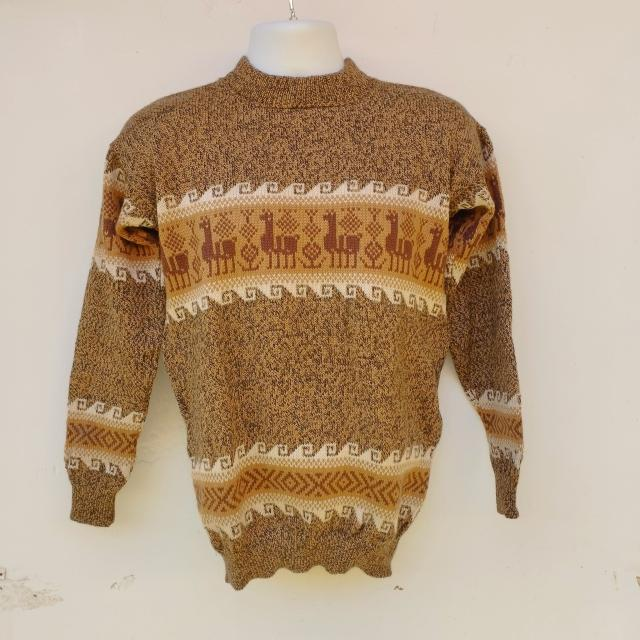Chompa: (64, 21, 525, 590)
